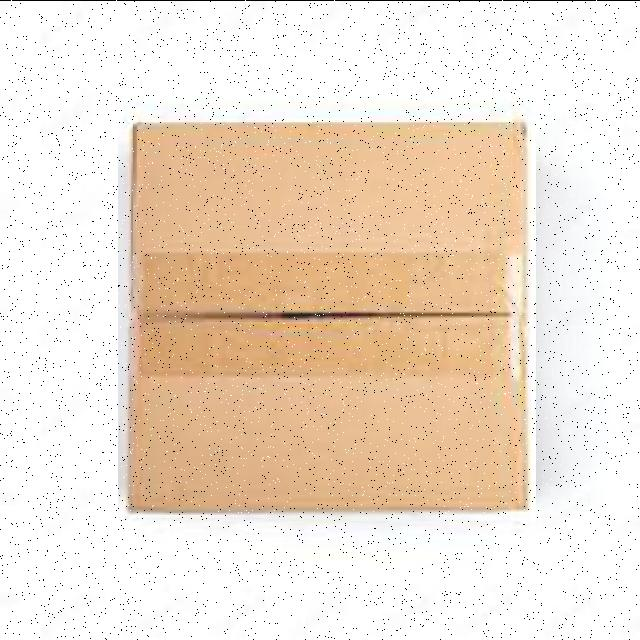normal: (118, 115, 536, 520)
